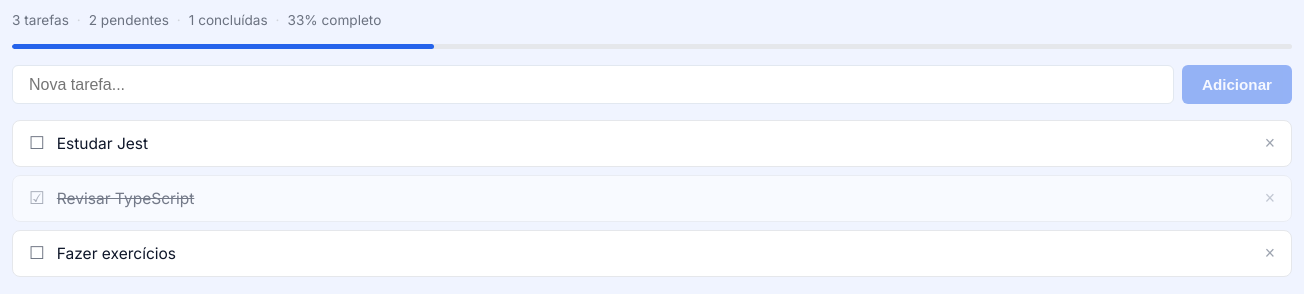
it: ListaDeTarefas — remover tarefa › remove uma tarefa ao clicar no botão remover
Expected: the text "Estudar Jest" is shown, top-left (57, 134), bottom-right (148, 153)
Click the button with test id "remover-1": (1270, 144) top-left (1265, 135), bottom-right (1275, 152)
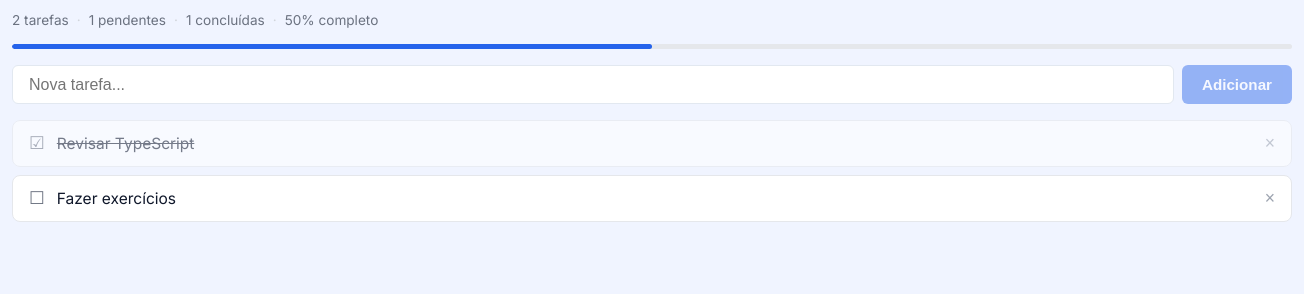
Now the text "Estudar Jest" is gone
